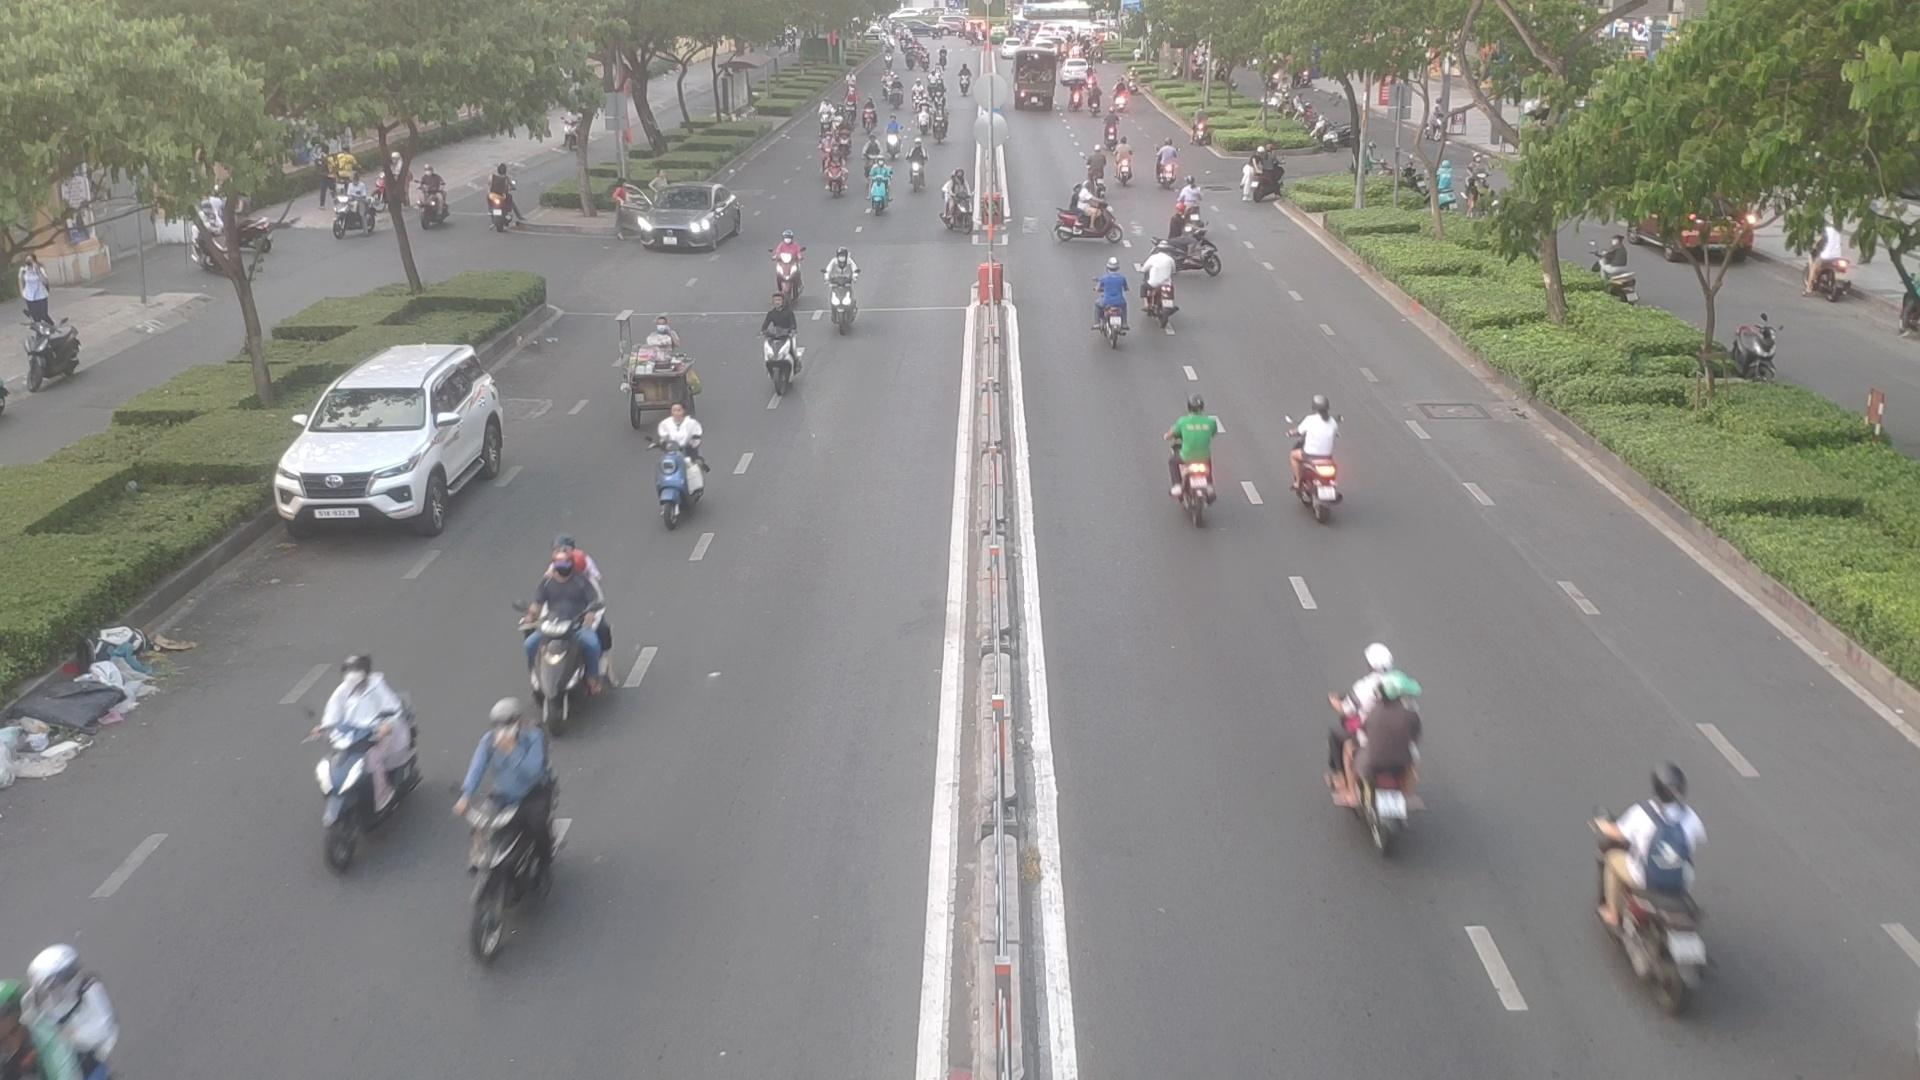car: (278, 345, 518, 535), (622, 189, 754, 257)
motorbike: (1600, 782, 1722, 1013), (309, 661, 426, 869), (1316, 644, 1428, 848), (524, 546, 625, 713), (0, 935, 116, 1075), (1154, 400, 1222, 526), (647, 406, 712, 521), (1290, 397, 1345, 520), (756, 298, 818, 392), (818, 252, 870, 340), (1085, 265, 1134, 347), (1054, 193, 1122, 249), (1139, 251, 1182, 328), (1168, 222, 1221, 277), (1104, 140, 1135, 182)
